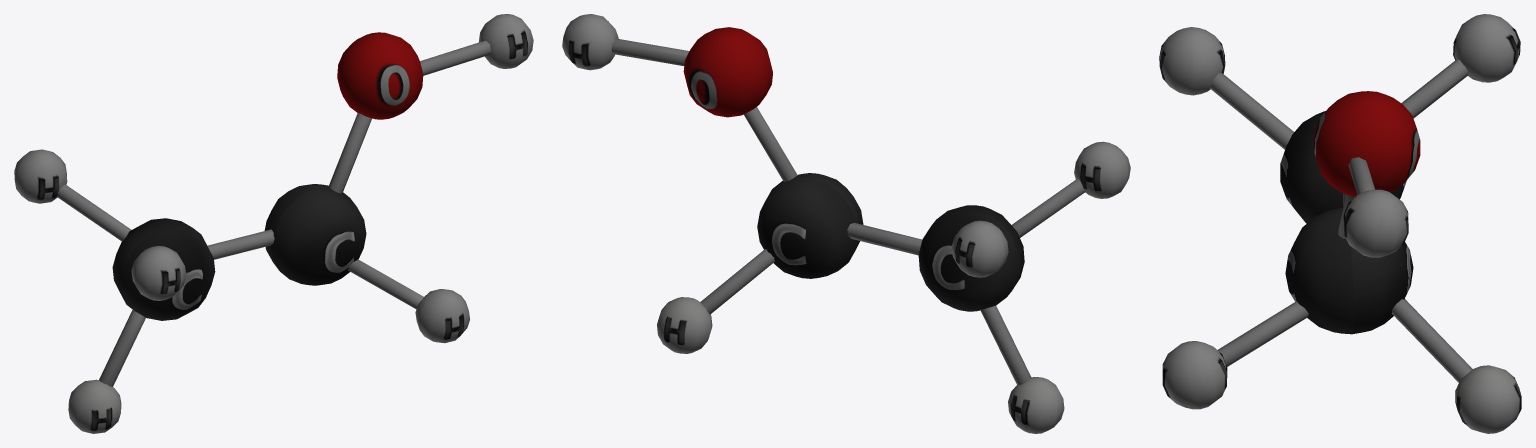
Rendered from Ethanol.gltf.
3 views of the same model, side by side, from view 1: azimuth 30°, elevation 25°; view 2: azimuth 150°, elevation 25°; view 3: azimuth 270°, elevation 25° (orthographic). The views are drawn at different scales.
Parts seen in each view (by area): view 1: C_Atom_01, O_Atom_035, C_Atom_02, H_Atom_06, H_Atom_05, H_Atom_04, H_Atom_03, H_Atom_01, Single_Bond_02, Single_Bond_04, Single_Bond_05, Single_Bond_03 (+2 smaller); view 2: C_Atom_01, C_Atom_02, O_Atom_035, H_Atom_03, H_Atom_02, H_Atom_04, H_Atom_06, H_Atom_01, Single_Bond_04, Single_Bond_01, Single_Bond_06, Single_Bond_02 (+2 smaller); view 3: C_Atom_01, O_Atom_035, C_Atom_02, H_Atom_05, H_Atom_02, H_Atom_01, H_Atom_03, H_Atom_06, Single_Bond_01, Single_Bond_06, Single_Bond_03, Single_Bond_05 (+1 smaller).
Boxes of the visible parts, bbox=[...] form: C_Atom_01: bbox=[264, 184, 366, 285]; O_Atom_035: bbox=[337, 32, 423, 119]; C_Atom_02: bbox=[112, 218, 215, 320]; H_Atom_06: bbox=[131, 245, 186, 300]; H_Atom_05: bbox=[415, 289, 469, 343]; H_Atom_04: bbox=[68, 379, 121, 433]; H_Atom_03: bbox=[14, 149, 67, 203]; H_Atom_01: bbox=[478, 14, 533, 68]; Single_Bond_02: bbox=[328, 113, 371, 193]; Single_Bond_04: bbox=[99, 310, 145, 386]; Single_Bond_05: bbox=[57, 184, 131, 241]; Single_Bond_03: bbox=[348, 259, 423, 309]; C_Atom_01: bbox=[757, 173, 863, 278]; C_Atom_02: bbox=[918, 205, 1024, 311]; O_Atom_035: bbox=[683, 27, 772, 117]; H_Atom_03: bbox=[951, 220, 1008, 277]; H_Atom_02: bbox=[657, 297, 712, 353]; H_Atom_04: bbox=[1008, 377, 1064, 433]; H_Atom_06: bbox=[1074, 141, 1130, 198]; H_Atom_01: bbox=[562, 14, 618, 70]; Single_Bond_04: bbox=[980, 306, 1031, 385]; Single_Bond_01: bbox=[700, 249, 774, 314]; Single_Bond_06: bbox=[1011, 179, 1085, 237]; Single_Bond_02: bbox=[743, 107, 797, 181]; C_Atom_01: bbox=[1285, 207, 1413, 334]; O_Atom_035: bbox=[1313, 91, 1420, 197]; C_Atom_02: bbox=[1280, 111, 1406, 223]; H_Atom_05: bbox=[1162, 341, 1227, 409]; H_Atom_02: bbox=[1455, 365, 1521, 433]; H_Atom_01: bbox=[1343, 189, 1408, 257]; H_Atom_03: bbox=[1453, 14, 1520, 82]; H_Atom_06: bbox=[1159, 27, 1225, 95]; Single_Bond_01: bbox=[1392, 299, 1472, 382]; Single_Bond_06: bbox=[1210, 73, 1293, 149]; Single_Bond_03: bbox=[1217, 301, 1308, 366]; Single_Bond_05: bbox=[1401, 59, 1468, 118].
Size of the model in its own units: 2.35 by 1.53 by 1.26.
1 material, 1 textured.
